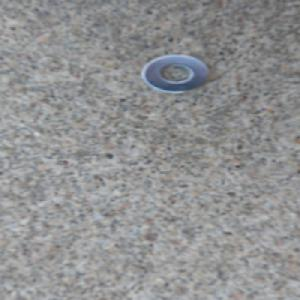Washer: (138, 54, 212, 96)
